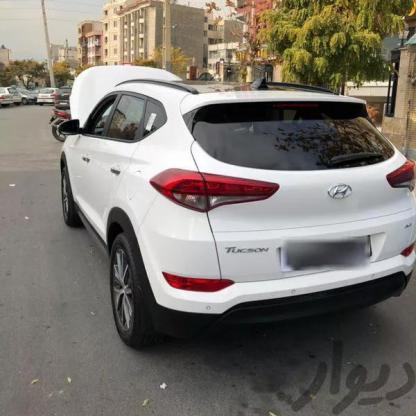Car: (54, 62, 416, 348), (54, 85, 74, 112), (11, 88, 39, 104), (38, 84, 58, 105), (0, 88, 15, 104)
